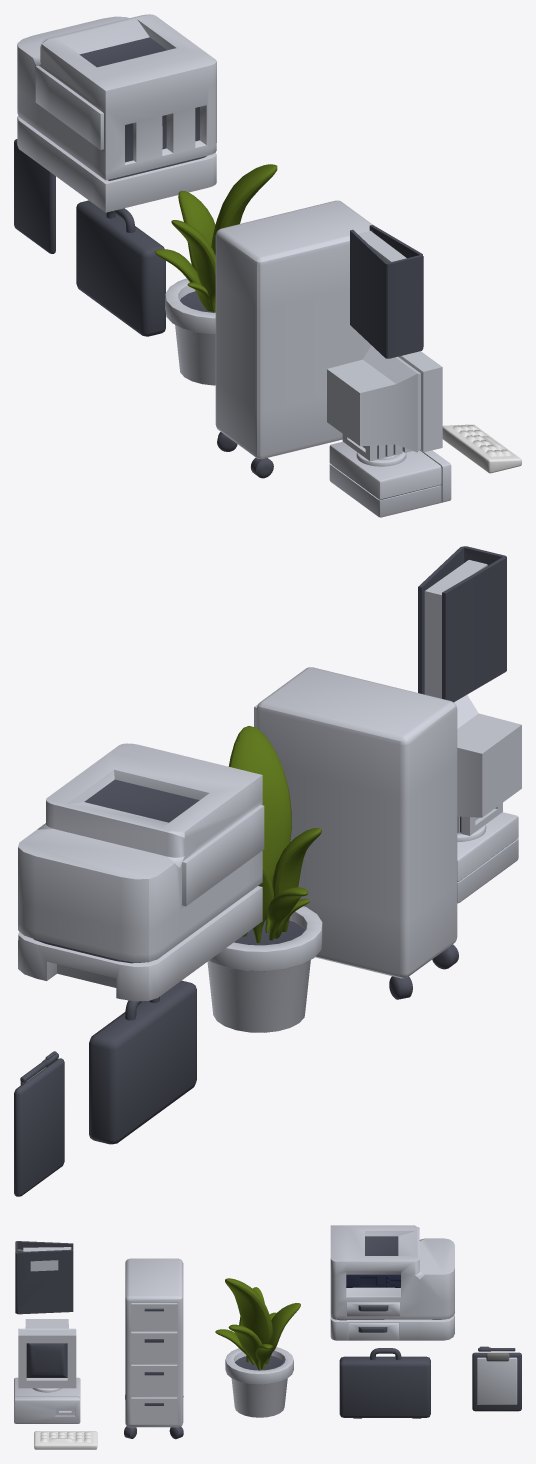
The picture shows the model from 3 angles, top to bottom: view 1: azimuth 30°, elevation 25°; view 2: azimuth 150°, elevation 25°; view 3: azimuth 270°, elevation 25°; orthographic projection. The views are drawn at different scales.
Visible parts, largest first — view 1: Printer, Cabinet, Computer, Plant, Suitcase, Folder, Clipboard, Keyboard; view 2: Printer, Cabinet, Plant, Suitcase, Folder, Computer, Clipboard; view 3: Printer, Cabinet, Plant, Computer, Suitcase, Folder, Clipboard, Keyboard.
Boxes of the visible parts, x1,y1,x2,y2 form: Printer: [17, 14, 216, 212]; Cabinet: [215, 200, 372, 478]; Computer: [327, 345, 451, 517]; Plant: [154, 164, 277, 385]; Suitcase: [76, 200, 165, 336]; Folder: [350, 225, 423, 358]; Clipboard: [14, 139, 55, 253]; Keyboard: [442, 424, 521, 473]; Printer: [18, 743, 264, 1001]; Cabinet: [254, 667, 458, 999]; Plant: [207, 726, 322, 1032]; Suitcase: [89, 980, 196, 1144]; Folder: [418, 546, 506, 702]; Computer: [454, 695, 521, 903]; Clipboard: [14, 1051, 64, 1196]; Printer: [330, 1225, 454, 1340]; Cabinet: [124, 1258, 183, 1439]; Plant: [215, 1278, 300, 1417]; Computer: [14, 1319, 80, 1423]; Suitcase: [339, 1348, 430, 1418]; Folder: [15, 1241, 73, 1314]; Clipboard: [472, 1346, 521, 1411]; Keyboard: [34, 1431, 97, 1449].
Size of the model in its own units: 505 by 674 by 1753.
